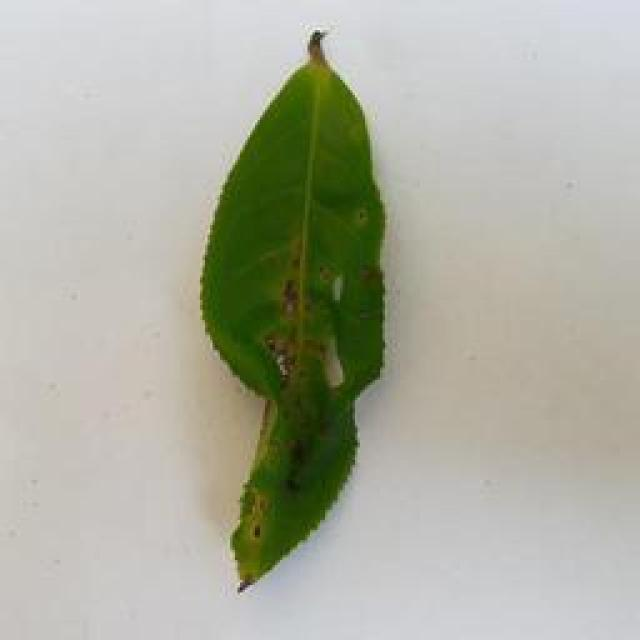Helopeltis: (200, 10, 386, 591)
